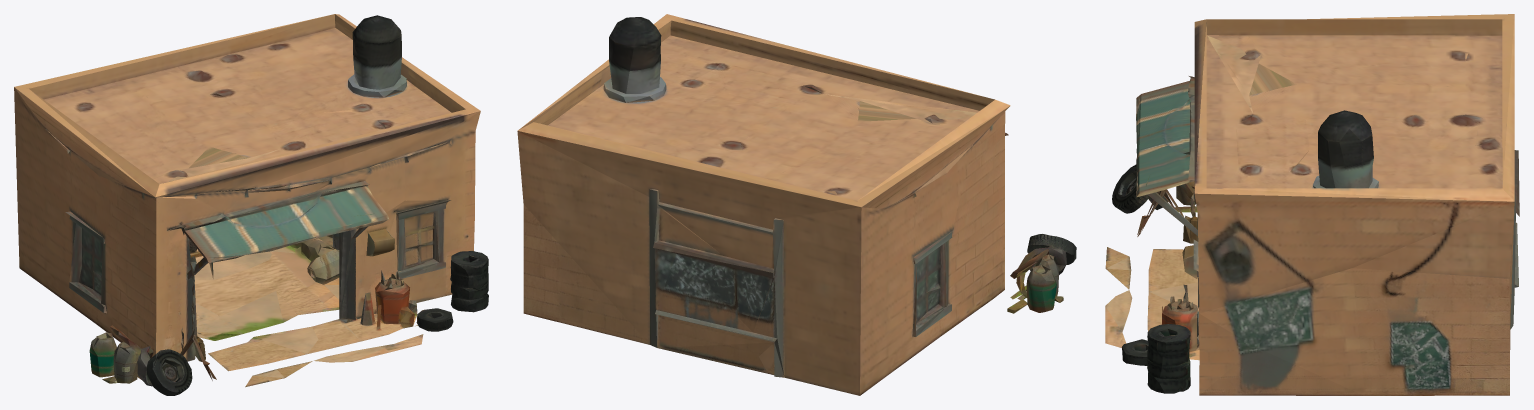
3 renders of one model, left to right at view 1: azimuth 30°, elevation 25°; view 2: azimuth 150°, elevation 25°; view 3: azimuth 270°, elevation 25°, orthographic. The views are drawn at different scales.
Parts seen in each view (by area): view 1: output_unwrapped; view 2: output_unwrapped; view 3: output_unwrapped.
Part boxes in pixels (box(x1,y1,x2,y2)): output_unwrapped: box(14, 14, 488, 395); output_unwrapped: box(517, 14, 1076, 395); output_unwrapped: box(1105, 14, 1519, 395).
Size of the model in its own units: 1.86 by 1.11 by 1.56.
Materials: 1 (1 with a texture image).
